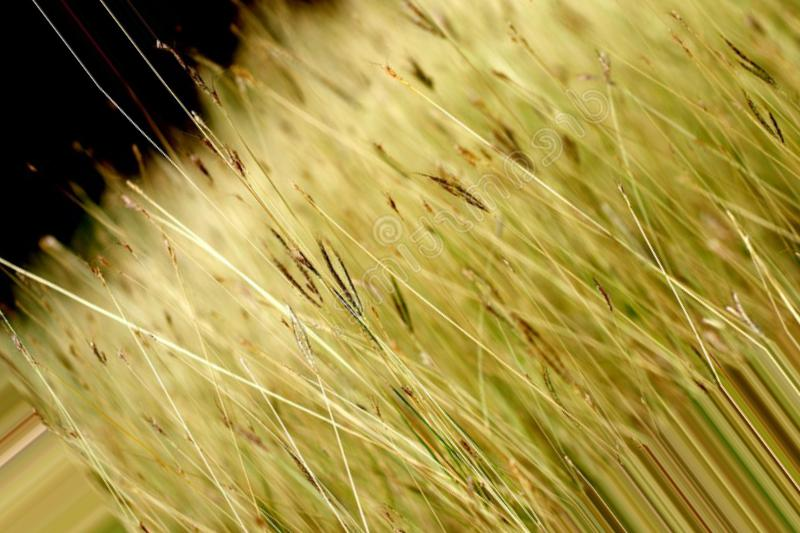patch: (95, 203, 371, 330), (300, 89, 489, 209), (95, 406, 204, 487)
